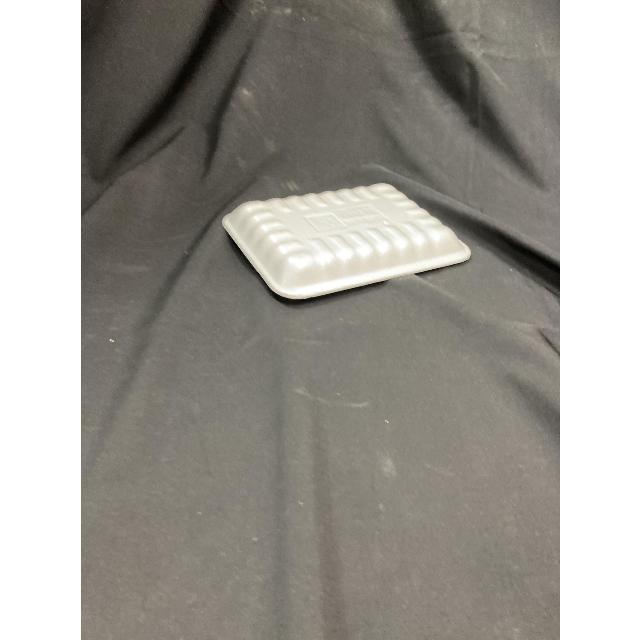Recipiente plastico: (224, 184, 471, 299)
